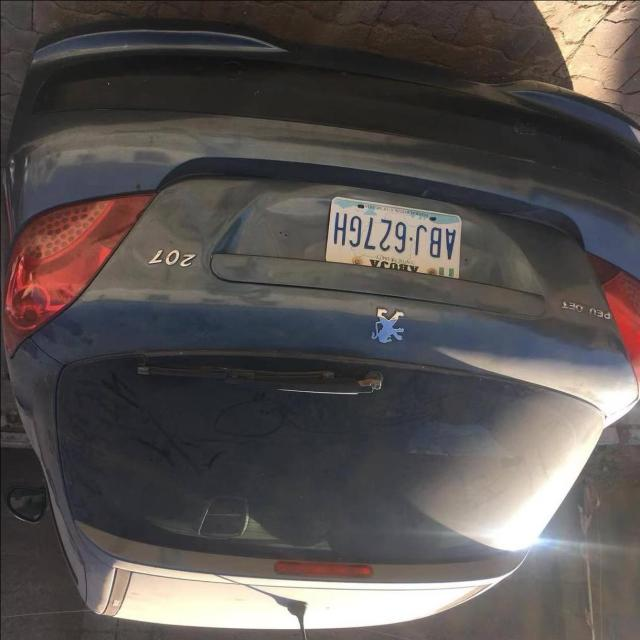Nigerian License Plate - vdataset benjamin-daria: (323, 195, 464, 288)
